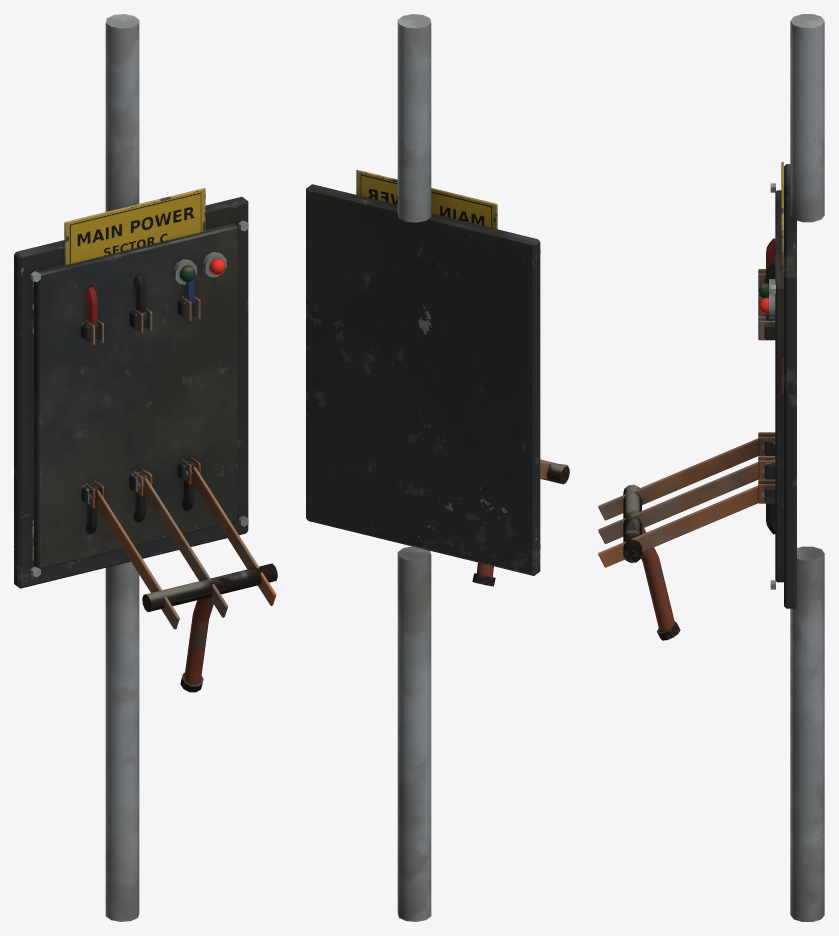
Rendered from PowerSwitch.fbx.
3 renders of one model, left to right at view 1: azimuth 30°, elevation 25°; view 2: azimuth 150°, elevation 25°; view 3: azimuth 270°, elevation 25°, orthographic.
Visible parts, largest first — view 1: Frame, Lever; view 2: Frame, Lever; view 3: Frame, Lever.
Boxes of the visible parts, bbox=[...] form: Frame: bbox=[14, 14, 248, 921]; Lever: bbox=[89, 466, 277, 692]; Frame: bbox=[306, 14, 540, 921]; Lever: bbox=[472, 459, 569, 586]; Frame: bbox=[758, 14, 824, 921]; Lever: bbox=[598, 438, 764, 640].
Bounding box in the file's own units: 1.86 × 6.9 × 1.58.
Materials: 1 (1 with a texture image).
